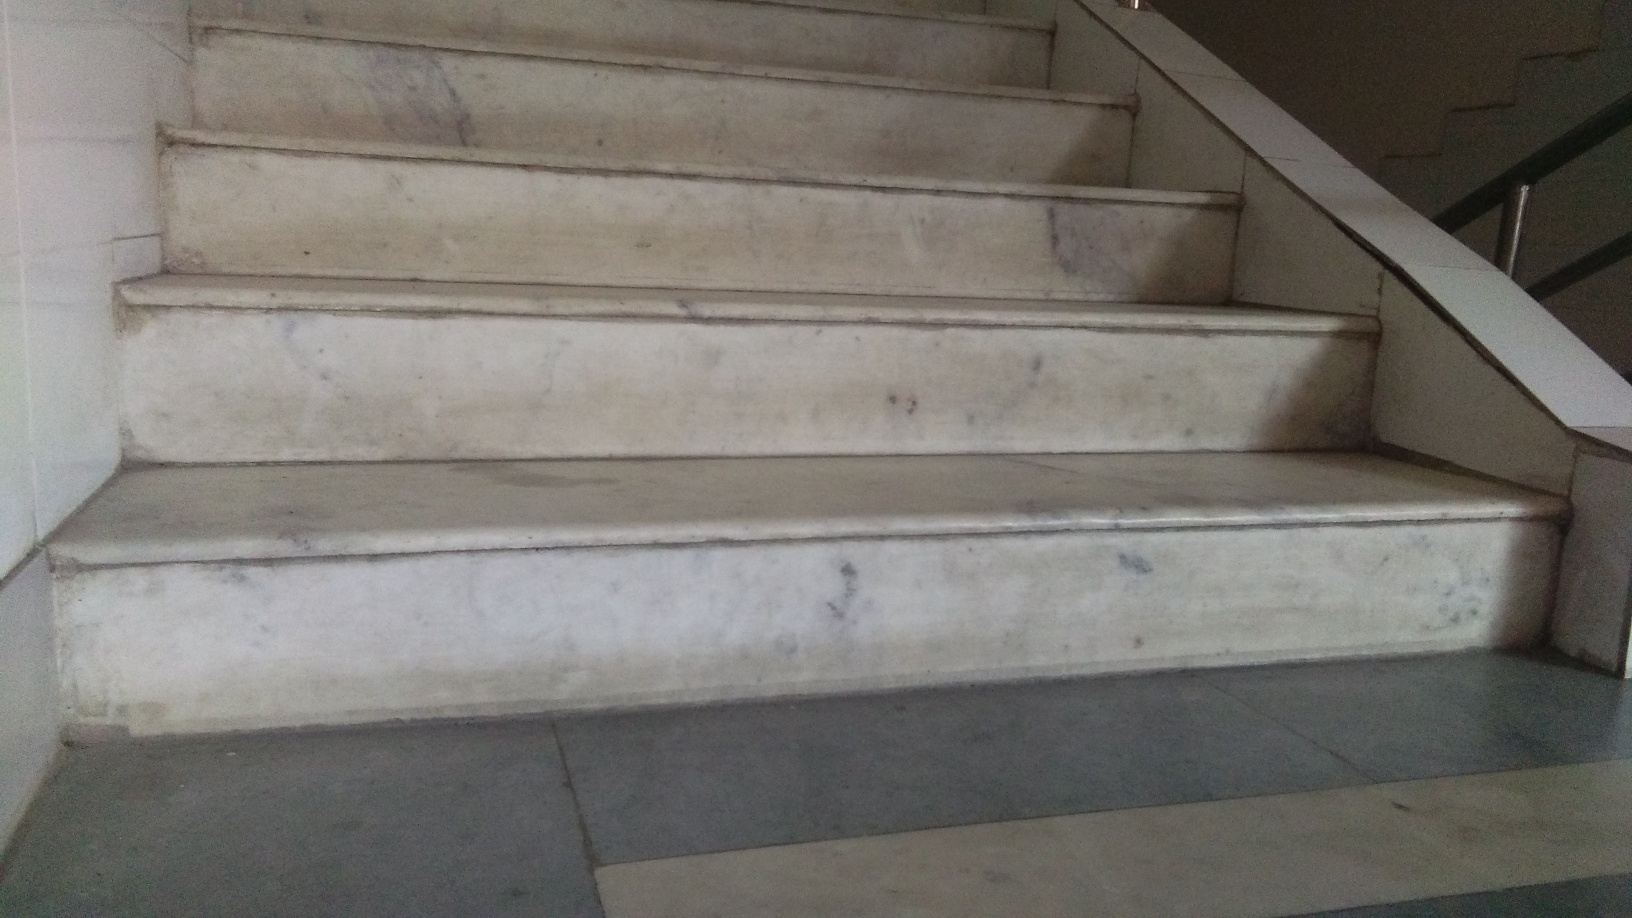stairs_up: (30, 4, 1594, 780)
